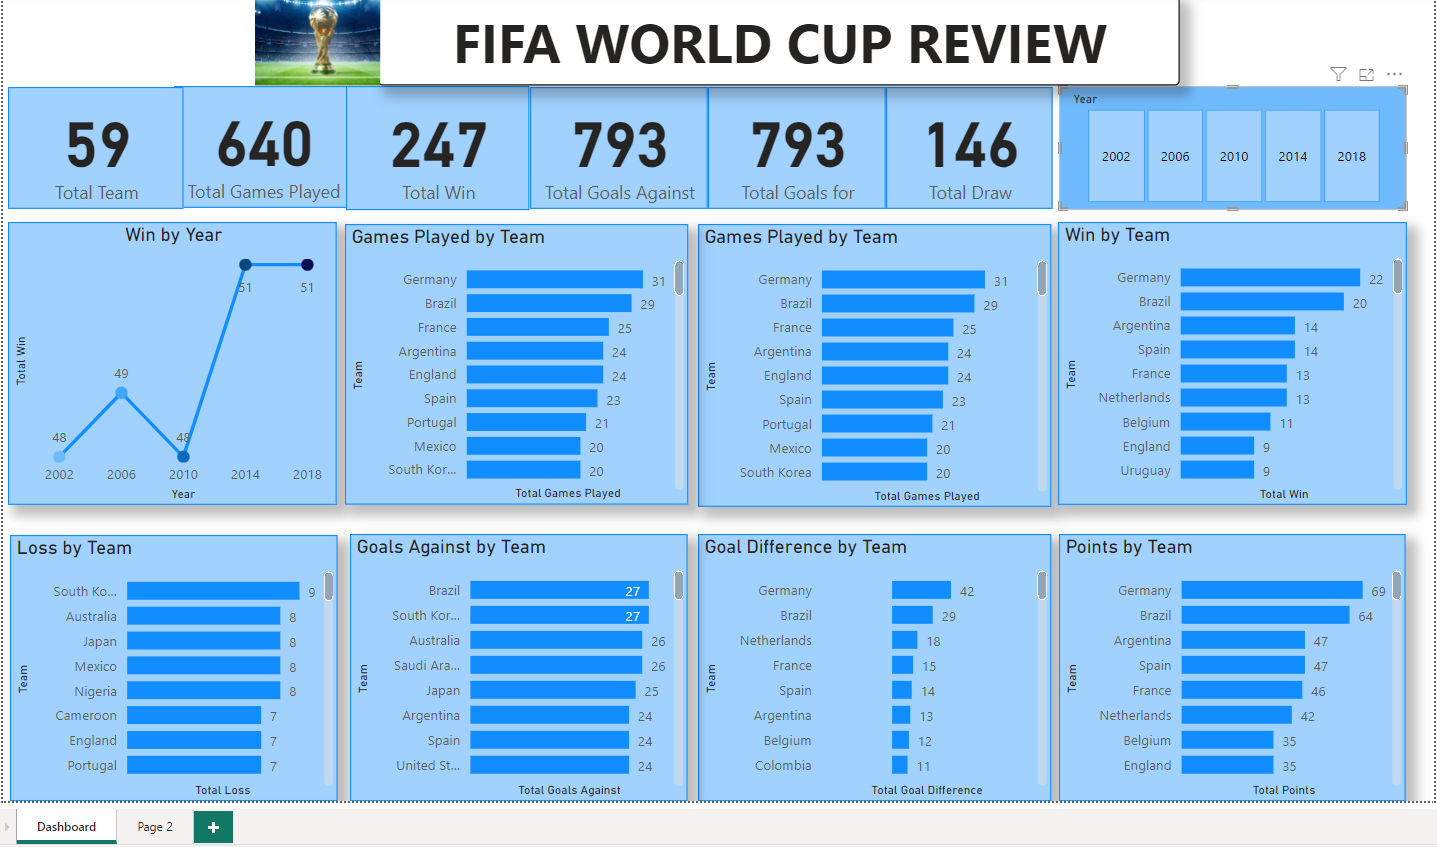

The dashboard page shown, as its layout file describes it:
{"tool":"powerbi","page":{"name":"Page 1","canvas":[1280,720],"ordinal":0},"visuals":[{"type":"card","fields":{"Values":["Fifa case study sol.Total Games Played"]},"box":[152.9,80.5,159.1,108.9],"z":0},{"type":"textbox","box":[0,191.5,161,150],"z":1000},{"type":"card","fields":{"Values":["Fifa case study sol.Total Win"]},"box":[306.3,80.5,164.4,110.9],"z":2000},{"type":"card","fields":{"Values":["Fifa case study sol.Total Goals Against"]},"box":[471.4,81.4,159.1,108.9],"z":3000,"group":"g1"},{"type":"barChart","title":"Games Played by Team","fields":{"Category":["Fifa case study sol.Team"],"Y":["Fifa case study sol.Total Games Played"]},"box":[621.6,203.9,315.7,253.1],"z":3000},{"type":"card","fields":{"Values":["Fifa case study sol.Total Goals for"]},"box":[630.5,81.4,159.1,108.9],"z":4000,"group":"g1"},{"type":"lineChart","title":"Win by Year","fields":{"Category":["Fifa case study sol.Year"],"Y":["Fifa case study sol.Total Win"]},"box":[4.5,202.1,294.1,253.2],"z":4000},{"type":"card","fields":{"Values":["Fifa case study sol.Total Draw"]},"box":[789.5,81.4,149.2,108.9],"z":5000,"group":"g1"},{"type":"clusteredBarChart","title":"Games Played by Team","fields":{"Category":["Fifa case study sol.Team"],"Y":["Fifa case study sol.Total Games Played"]},"box":[305.8,203.9,306.7,251.4],"z":5000},{"type":"clusteredBarChart","title":"Win by Team","fields":{"Y":["Fifa case study sol.Total Win"],"Category":["Fifa case study sol.Team"]},"box":[943.6,202.1,312.1,253.1],"z":6000},{"type":"barChart","title":"Loss by Team","fields":{"Category":["Fifa case study sol.Team"],"Y":["Fifa case study sol.Total Loss"]},"box":[6,482,293,238],"z":7000},{"type":"card","fields":{"Values":["Fifa case study sol.Total Team"]},"box":[4.5,81.4,157.4,109.1],"z":8000},{"type":"barChart","title":"Goal Difference by Team","fields":{"Category":["Fifa case study sol.Team"],"Y":["Fifa case study sol.Total Goal Difference"]},"box":[621.6,481.2,315.7,238.8],"z":9000},{"type":"barChart","title":"Goals Against by Team","fields":{"Category":["Fifa case study sol.Team"],"Y":["Fifa case study sol.Total Goals Against"]},"box":[310.4,481.2,302.3,238.8],"z":10000},{"type":"clusteredBarChart","title":"Points by Team","fields":{"Category":["Fifa case study sol.Team"],"Y":["Fifa case study sol.Total Points"]},"box":[944.5,481.2,310.4,238.8],"z":11000},{"type":"slicer","fields":{"Values":["Fifa case study sol.Year"]},"box":[944.5,80.5,311.3,110.9],"z":12000},{"type":"group","id":"g1","title":"Group 1","box":[471.4,81.4,466.9,109.1],"z":13000},{"type":"textbox","box":[335,0,717,80],"z":14000},{"type":"image","box":[208.4,0,145.8,81.4],"z":15000}]}

Visuals, with their boxes on the page's 1280x720 design canvas (x1, y1, x2, y2). These are canvas units, not pixel positions in the 1437x847 screenshot, which may show the page scaled, cropped or inside an application window:
card - Fifa case study sol.Total Games Played: region(153, 80, 312, 189)
textbox: region(0, 192, 161, 342)
card - Fifa case study sol.Total Win: region(306, 80, 471, 191)
card - Fifa case study sol.Total Goals Against: region(471, 81, 630, 190)
"Games Played by Team" barChart: region(622, 204, 937, 457)
card - Fifa case study sol.Total Goals for: region(630, 81, 790, 190)
"Win by Year" lineChart: region(4, 202, 299, 455)
card - Fifa case study sol.Total Draw: region(790, 81, 939, 190)
"Games Played by Team" clusteredBarChart: region(306, 204, 612, 455)
"Win by Team" clusteredBarChart: region(944, 202, 1256, 455)
"Loss by Team" barChart: region(6, 482, 299, 720)
card - Fifa case study sol.Total Team: region(4, 81, 162, 190)
"Goal Difference by Team" barChart: region(622, 481, 937, 720)
"Goals Against by Team" barChart: region(310, 481, 613, 720)
"Points by Team" clusteredBarChart: region(944, 481, 1255, 720)
slicer - Fifa case study sol.Year: region(944, 80, 1256, 191)
"Group 1" group: region(471, 81, 938, 190)
textbox: region(335, 0, 1052, 80)
image: region(208, 0, 354, 81)
